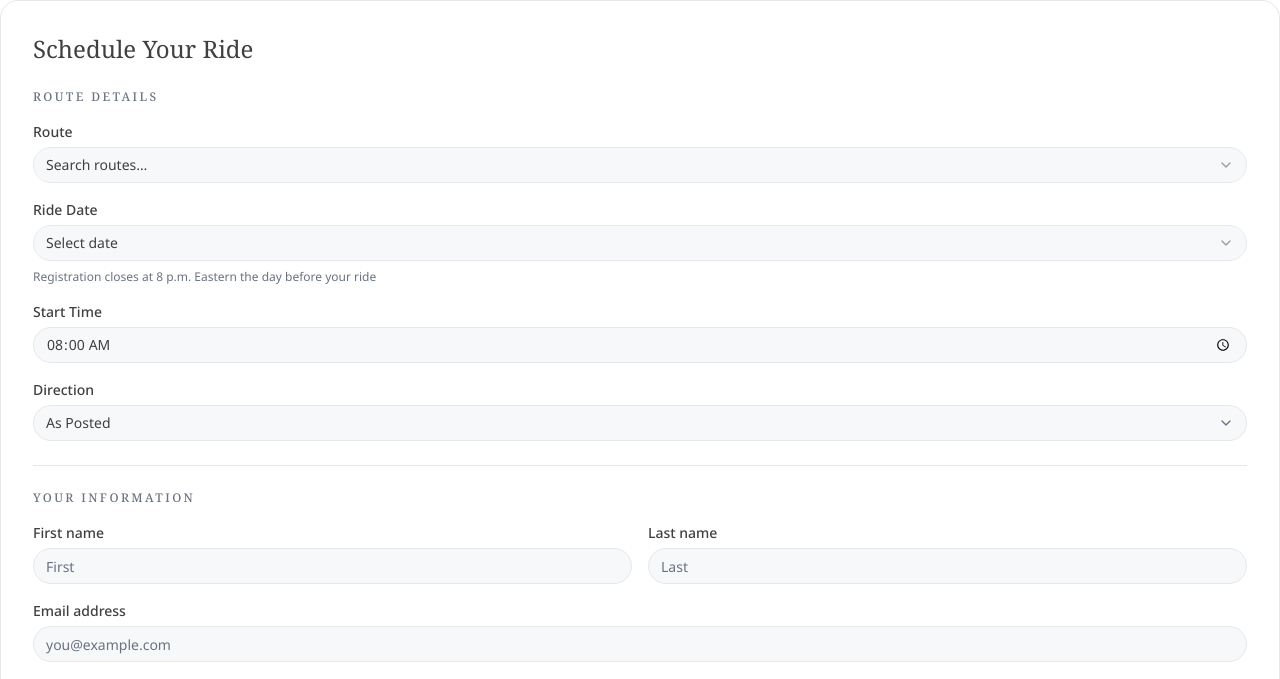
Test: PermanentRegistrationForm › start location field › shows nothing while an existing ride locks the start
Click the dropdown labelled "route" at (97, 164), box [33, 147, 1247, 183]
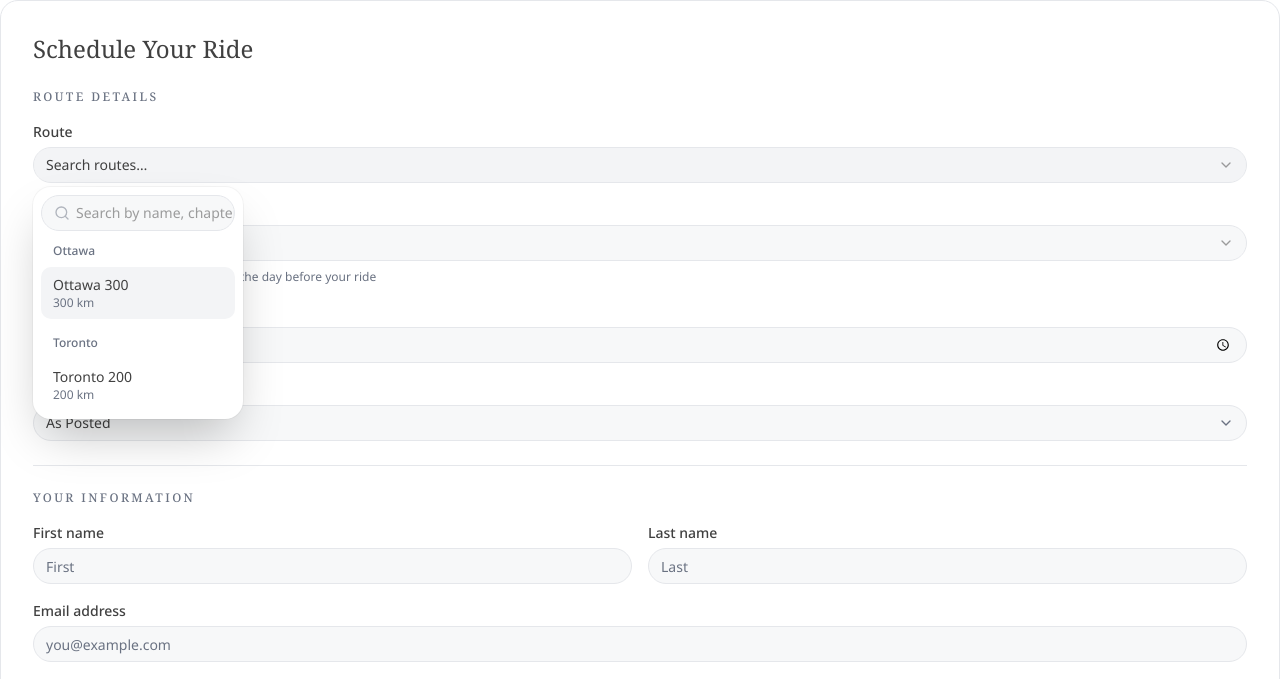
Click the option "Toronto 200 200 km" at (93, 385), box [53, 367, 132, 403]
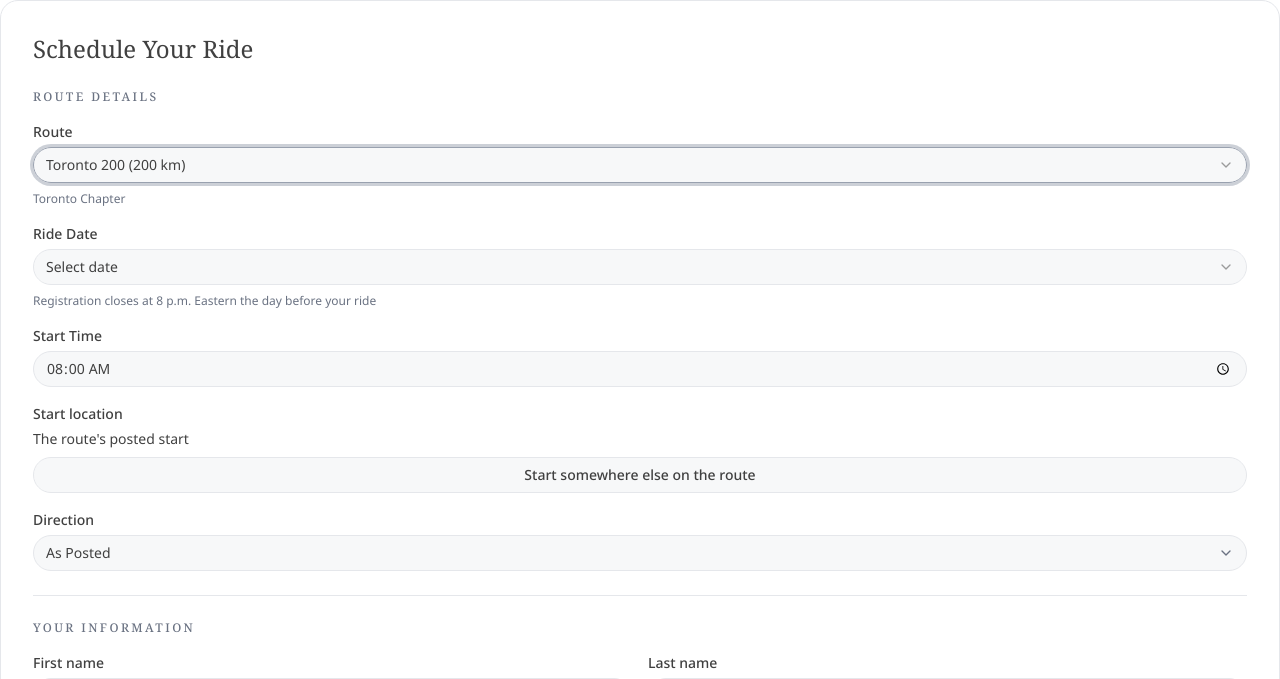
Click the button named "Ride Date" at (82, 266), box [33, 249, 1247, 285]
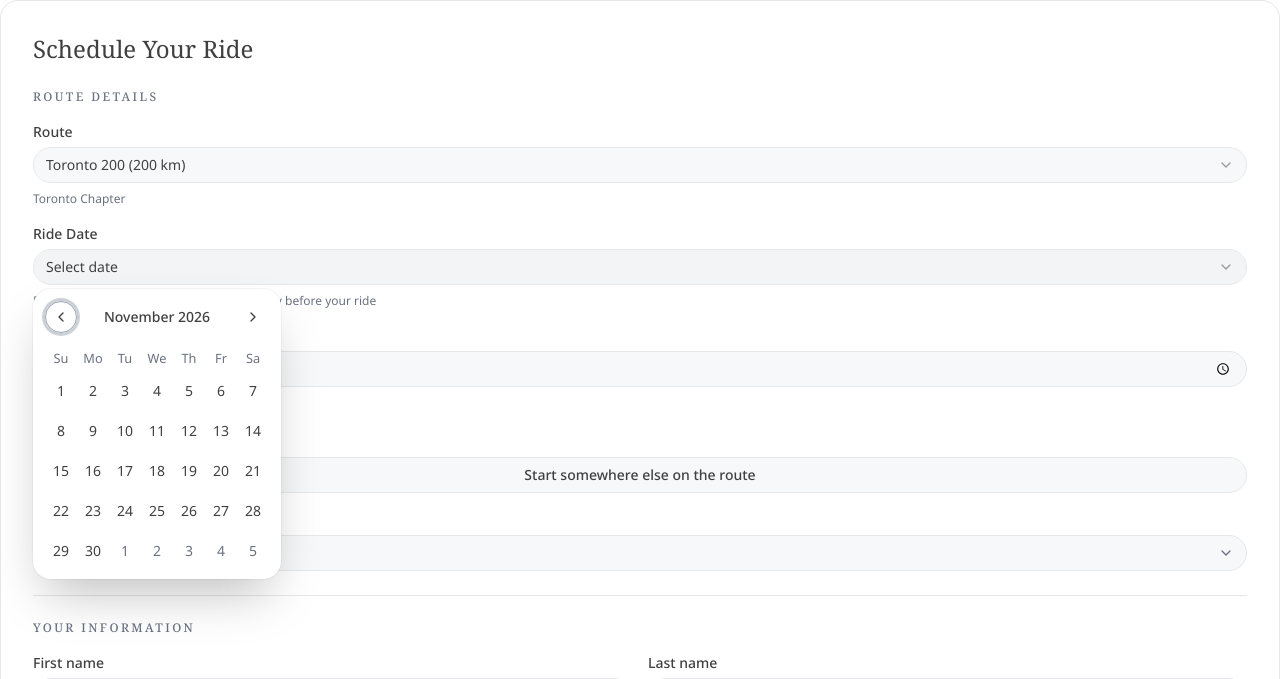
Click the button named "Go to the Next Month" at (253, 317), box [237, 301, 269, 333]
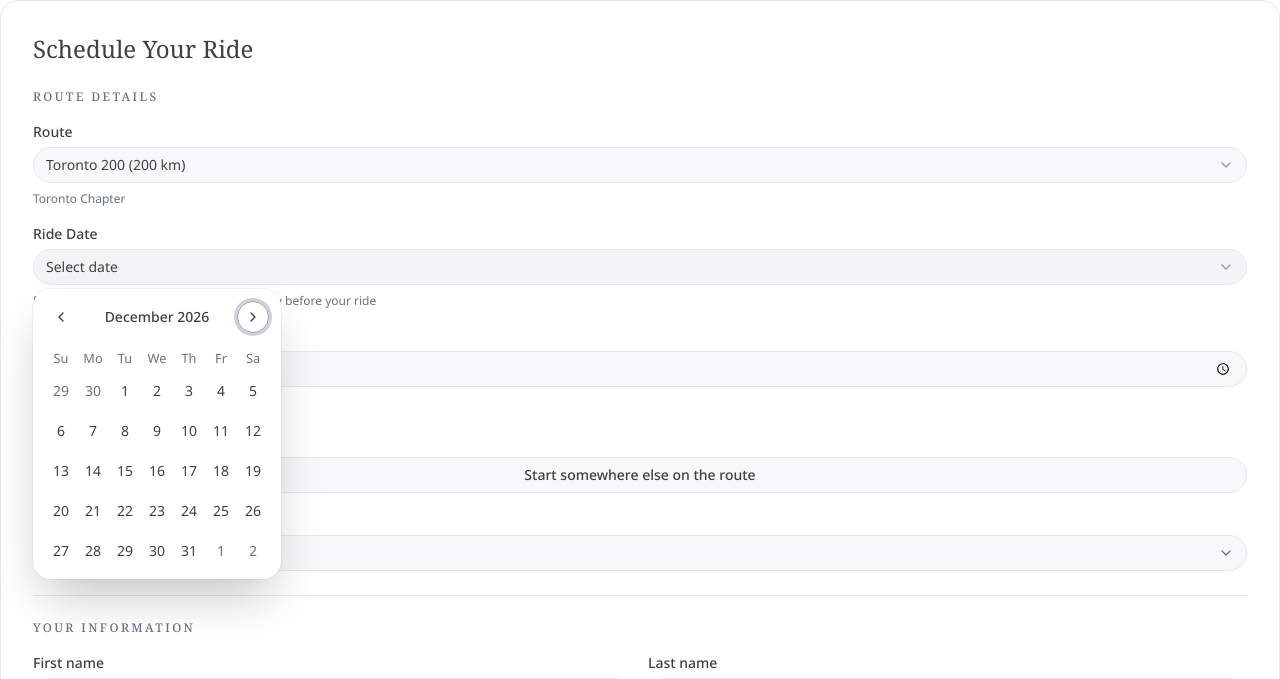
Click the button "14" at (93, 471), box [77, 455, 109, 487]
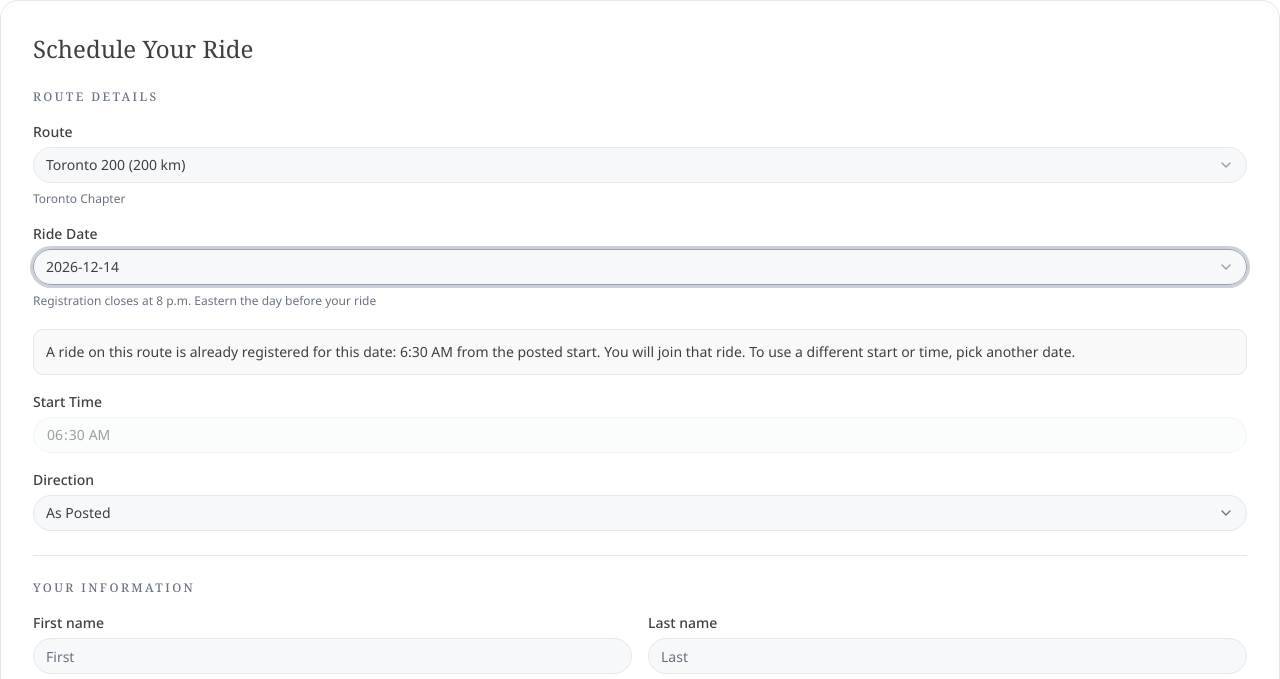
Result: the text "already registered for this date" is shown at [46, 342, 396, 361]
Result: the label "Start location" is gone
